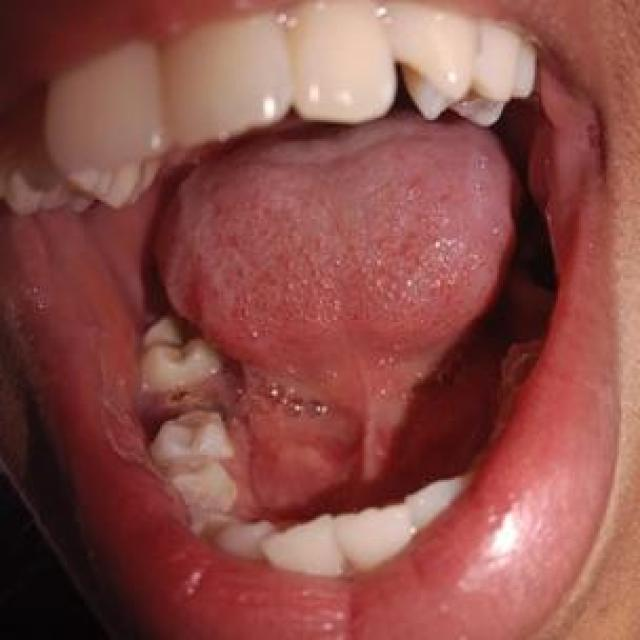processing_area: (34, 107, 511, 523)
